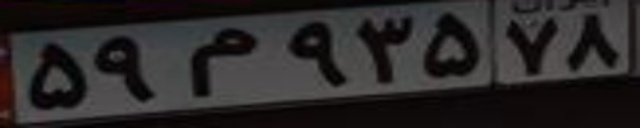3: (355, 14, 416, 84)
5: (420, 11, 485, 79), (29, 41, 90, 110)
7: (504, 17, 560, 75)
8: (567, 14, 621, 71)
9: (91, 35, 157, 103), (286, 21, 347, 88)
mim: (182, 26, 260, 99)
